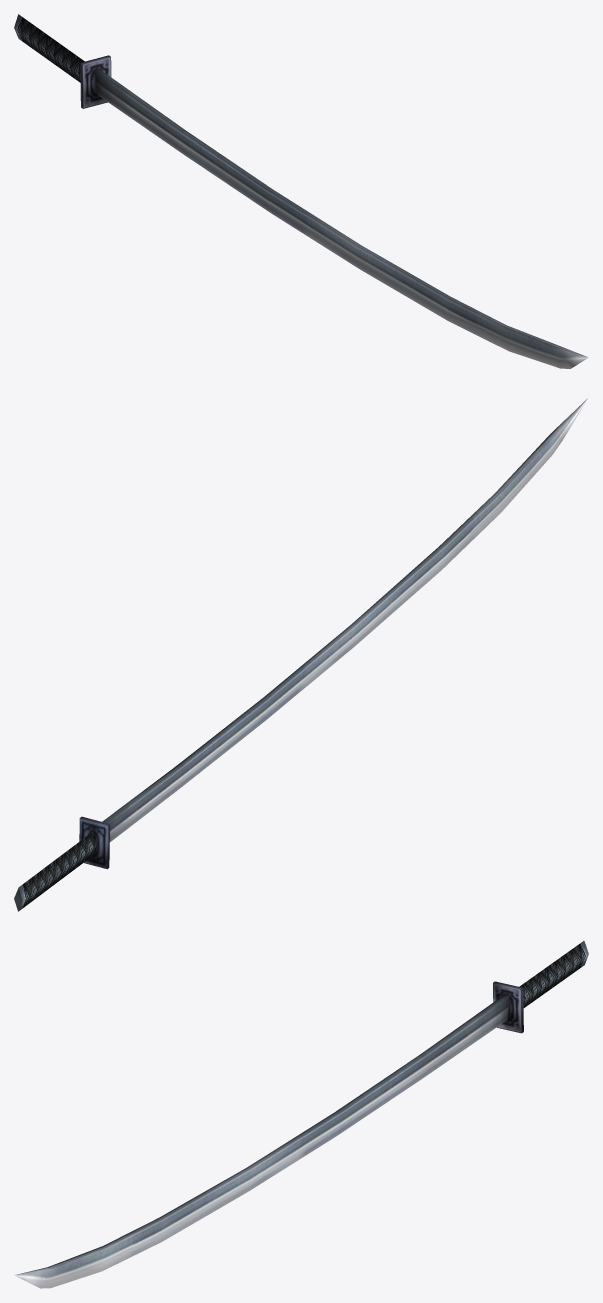
3 views of the same model, one above another, from view 1: azimuth 30°, elevation 25°; view 2: azimuth 150°, elevation 25°; view 3: azimuth 330°, elevation 25° (orthographic).
Parts seen in each view (by area): view 1: sm_0; view 2: sm_0; view 3: sm_0.
Part boxes in pixels (x1,y1,x2,y2): sm_0: [14, 14, 588, 368]; sm_0: [14, 398, 587, 911]; sm_0: [14, 941, 588, 1288].
Bounding box in the file's own units: 19.8 × 72.62 × 669.
